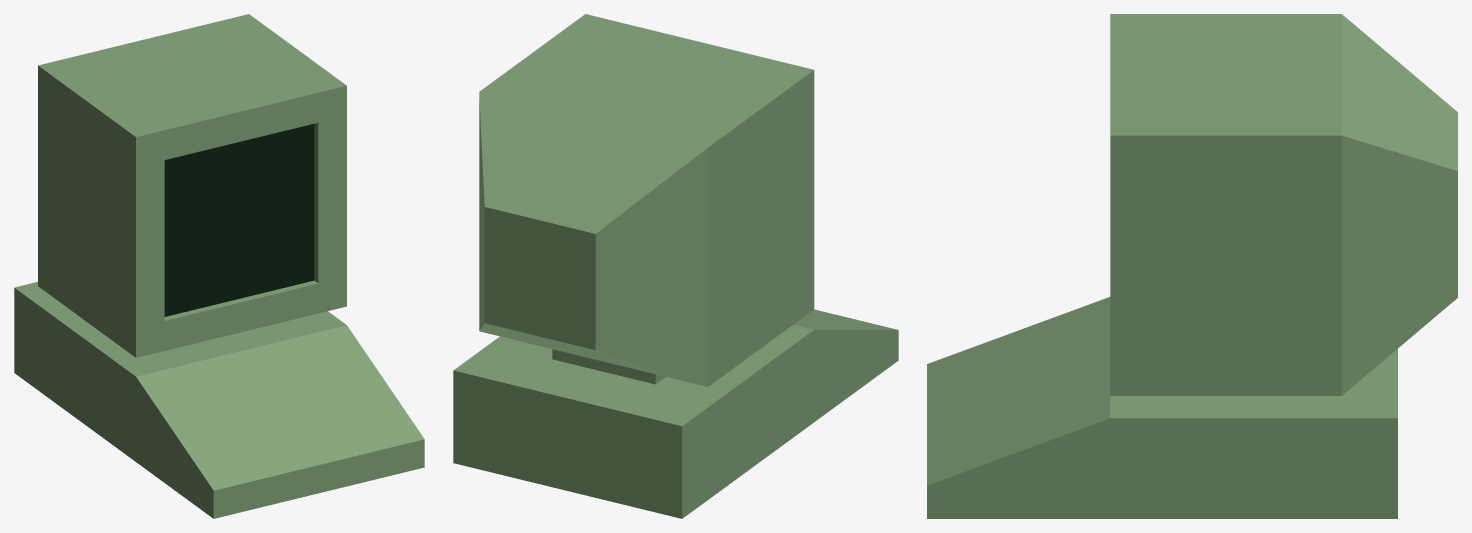
The picture shows the model from 3 angles, left to right: view 1: azimuth 30°, elevation 25°; view 2: azimuth 150°, elevation 25°; view 3: azimuth 270°, elevation 25°; orthographic projection. The views are drawn at different scales.
Parts seen in each view (by area): view 1: PC; view 2: PC; view 3: PC.
Part boxes in pixels (left/top/right/bottom): PC: left=14, top=14, right=424, bottom=518; PC: left=453, top=14, right=898, bottom=518; PC: left=927, top=14, right=1457, bottom=518.
Size of the model in its own units: 1 by 1.47 by 1.85.
